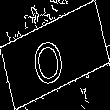O_N: (35, 24, 75, 86)
